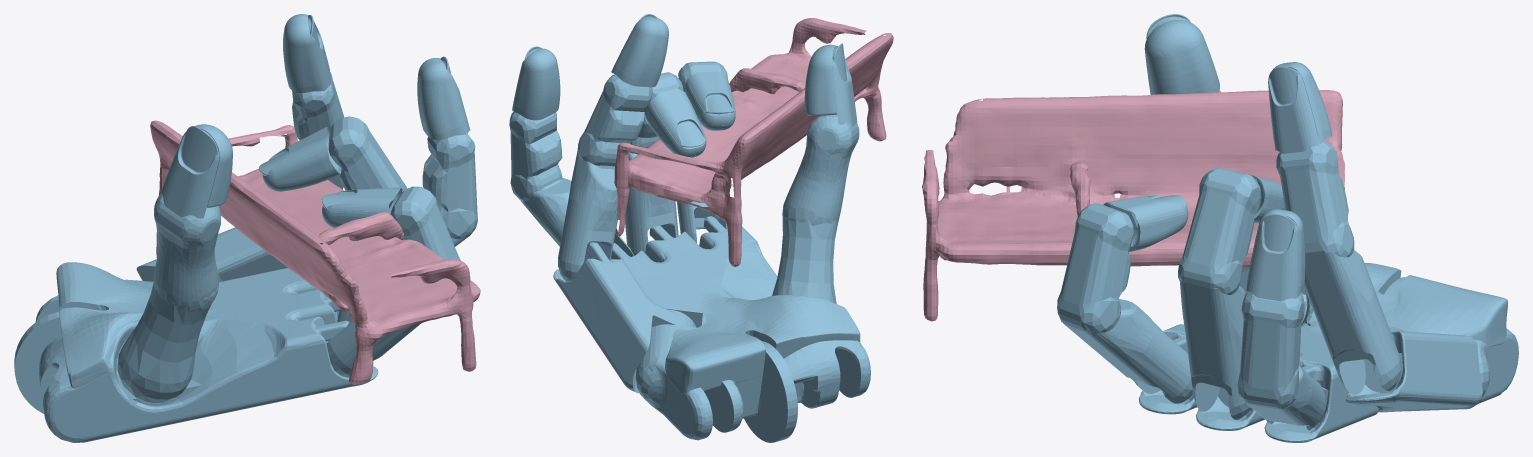
The picture shows the model from 3 angles, left to right: view 1: azimuth 30°, elevation 25°; view 2: azimuth 150°, elevation 25°; view 3: azimuth 270°, elevation 25°; orthographic projection. The views are drawn at different scales.
Visible parts, largest first — view 1: hand_isaac_q, world; view 2: hand_isaac_q, world; view 3: hand_isaac_q, world.
Part boxes in pixels (<box>): hand_isaac_q: <box>14,14,477,442</box>; world: <box>150,120,480,384</box>; hand_isaac_q: <box>509,14,870,442</box>; world: <box>614,18,893,266</box>; hand_isaac_q: <box>1057,14,1518,442</box>; world: <box>922,90,1344,321</box>.
Size of the model in its own units: 0.1617 by 0.147 by 0.185.
